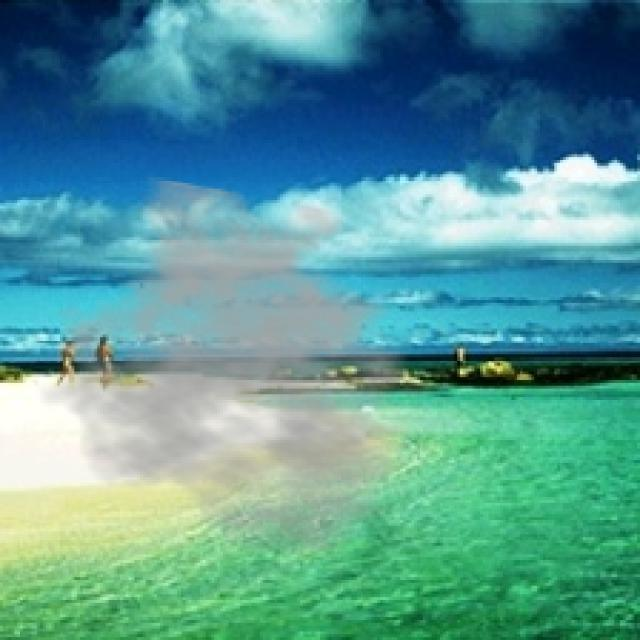Smoke: (34, 175, 454, 560)
